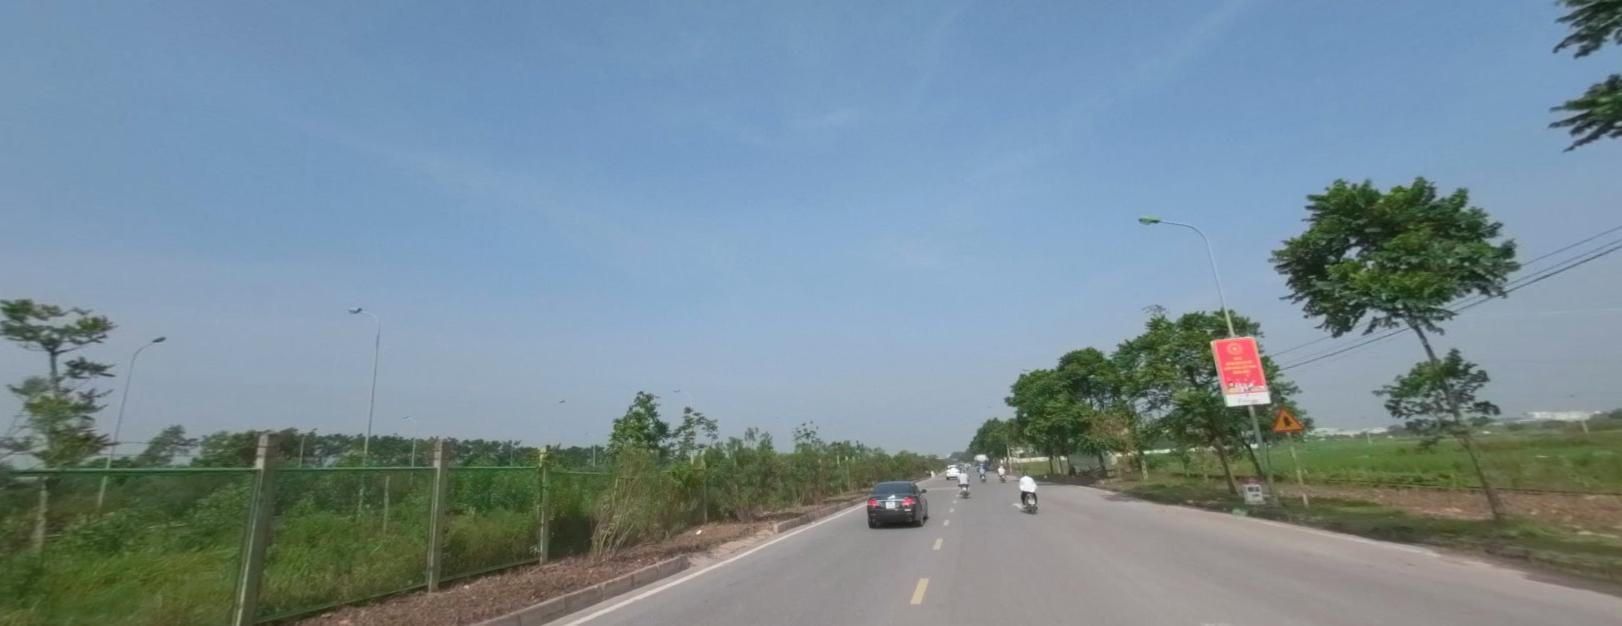Nguy hiem: (1272, 407, 1302, 431), (1274, 408, 1302, 430), (1272, 408, 1300, 429)
